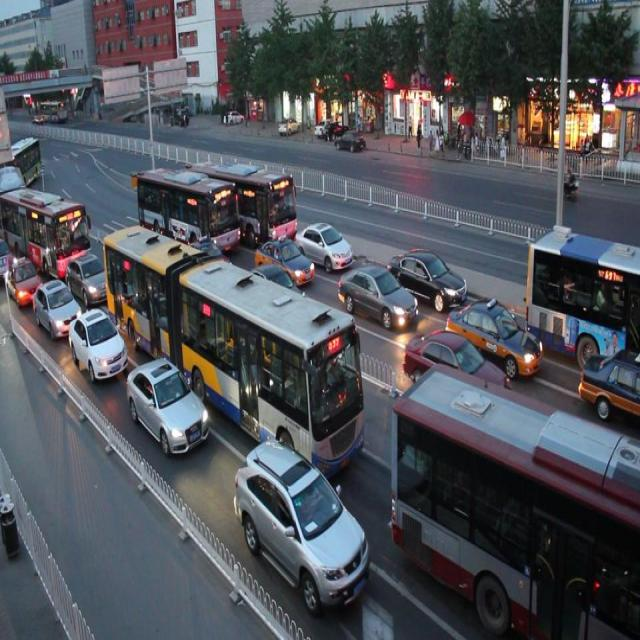car: (233, 435, 369, 616), (124, 345, 210, 459), (404, 321, 507, 407), (446, 294, 544, 382), (337, 258, 416, 331), (390, 243, 468, 309), (576, 351, 640, 425), (69, 306, 126, 384), (253, 230, 314, 289), (294, 214, 352, 273), (251, 255, 305, 315), (181, 236, 236, 290), (36, 278, 82, 342), (0, 250, 42, 307), (67, 250, 110, 301)
van: (102, 218, 366, 482), (388, 366, 640, 640), (524, 227, 640, 363), (136, 160, 240, 262), (191, 153, 298, 248), (1, 182, 90, 272)
